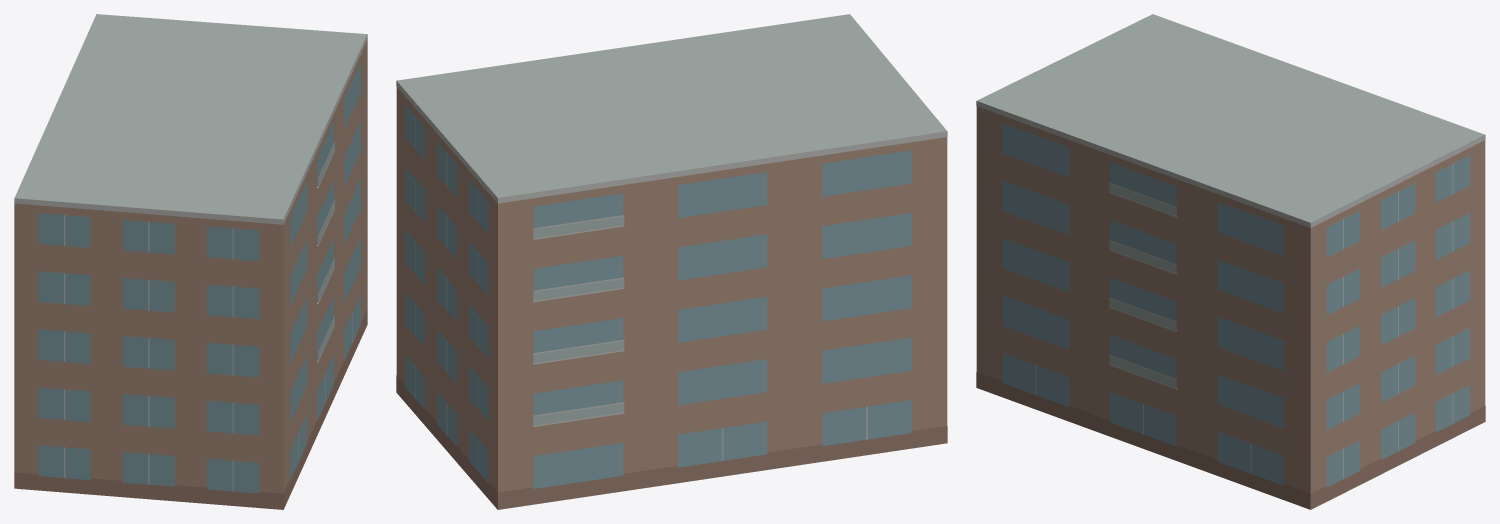
File: survey-upis-32890386.glb
The picture shows the model from 3 angles, left to right: view 1: azimuth 30°, elevation 25°; view 2: azimuth 150°, elevation 25°; view 3: azimuth 270°, elevation 25°; orthographic projection. The views are drawn at different scales.
Visible parts, largest first — view 1: survey-upis-32890386.tmp; view 2: survey-upis-32890386.tmp; view 3: survey-upis-32890386.tmp.
Boxes of the visible parts, x1,y1,x2,y2 form: survey-upis-32890386.tmp: [14, 14, 367, 509]; survey-upis-32890386.tmp: [396, 14, 947, 509]; survey-upis-32890386.tmp: [976, 14, 1485, 509].
Size of the model in its own units: 21.08 by 13.5 by 21.7.
